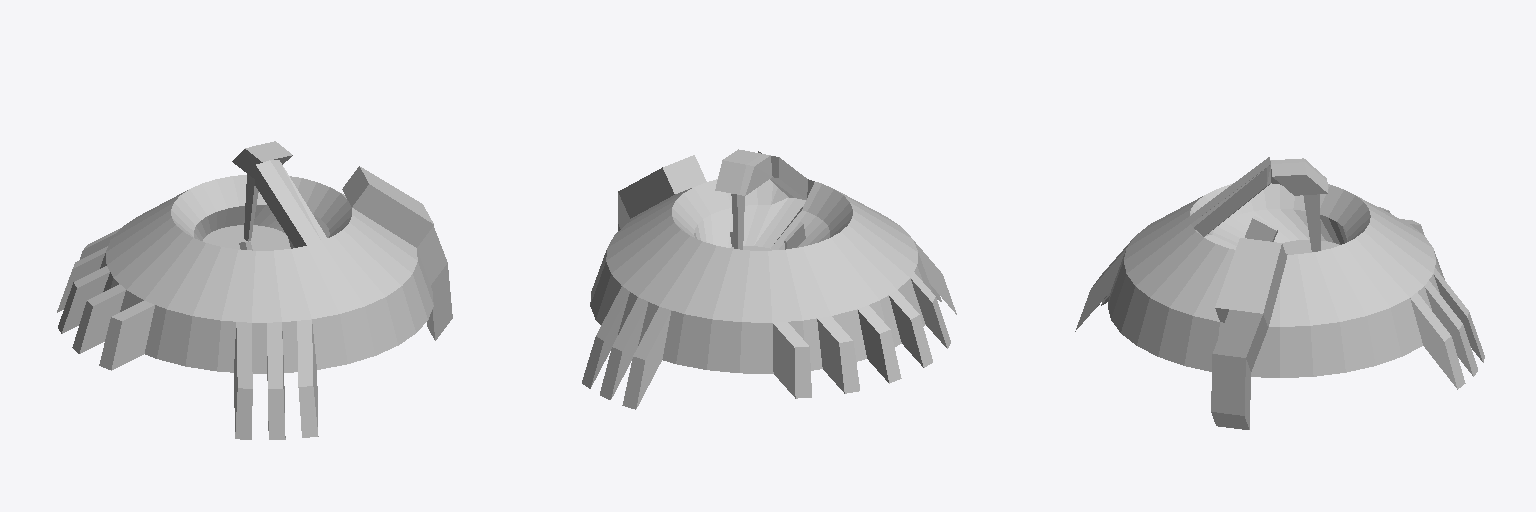
The model's file is extractor.obj.
3 renders of one model, left to right at view 1: azimuth 30°, elevation 25°; view 2: azimuth 150°, elevation 25°; view 3: azimuth 270°, elevation 25°, orthographic.
Parts seen in each view (by area): view 1: Cylinder; view 2: Cylinder; view 3: Cylinder.
Part boxes in pixels (left/top/right/bottom): Cylinder: left=57, top=141, right=452, bottom=439; Cylinder: left=582, top=149, right=956, bottom=409; Cylinder: left=1075, top=157, right=1484, bottom=429.
Size of the model in its own units: 3.81 by 2.09 by 3.95.